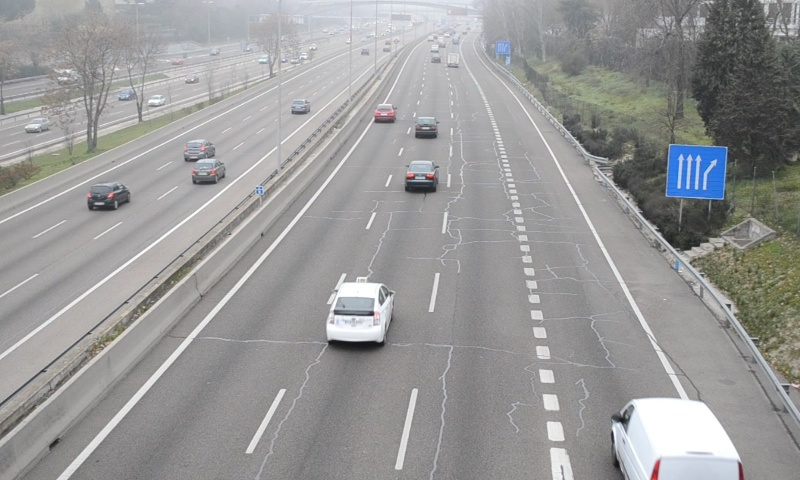car: (326, 282, 393, 342), (404, 160, 438, 189), (414, 116, 439, 139), (374, 103, 397, 122)
van: (612, 397, 744, 480)
